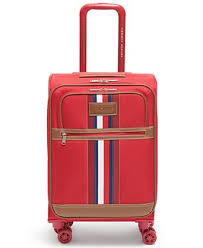suitcase: (44, 4, 160, 246)
